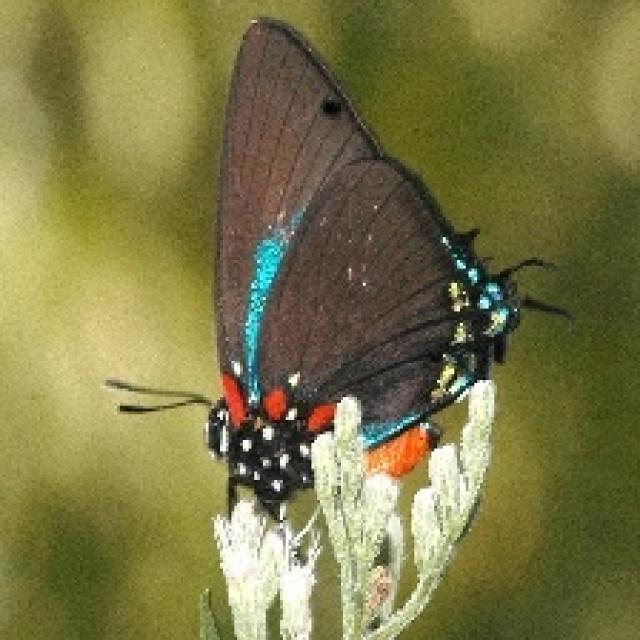butterfly: (100, 11, 571, 548)
